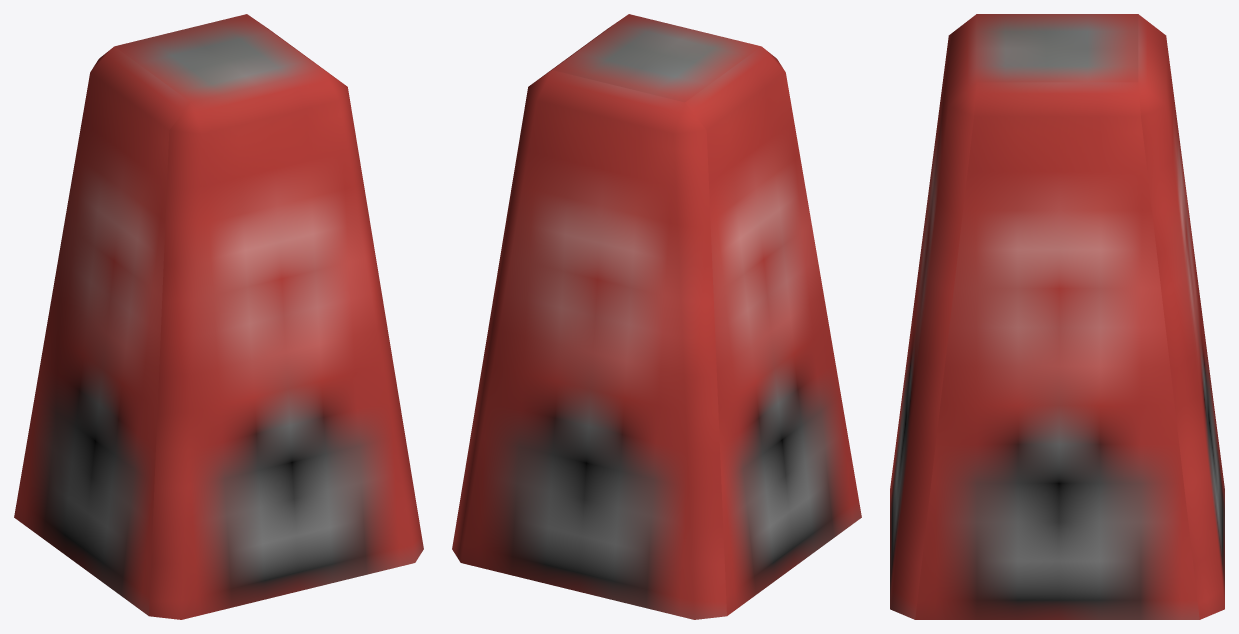
File: Tower1.FBX
3 renders of one model, left to right at view 1: azimuth 30°, elevation 25°; view 2: azimuth 150°, elevation 25°; view 3: azimuth 270°, elevation 25°, orthographic. The views are drawn at different scales.
Parts seen in each view (by area): view 1: Tower1; view 2: Tower1; view 3: Tower1.
Part boxes in pixels (x1=…): Tower1: x1=14, y1=14, x2=423, y2=619; Tower1: x1=452, y1=14, x2=861, y2=619; Tower1: x1=890, y1=14, x2=1224, y2=619.
Bounding box in the file's own units: 13.53 × 22.34 × 13.53.
1 material, 1 textured.
